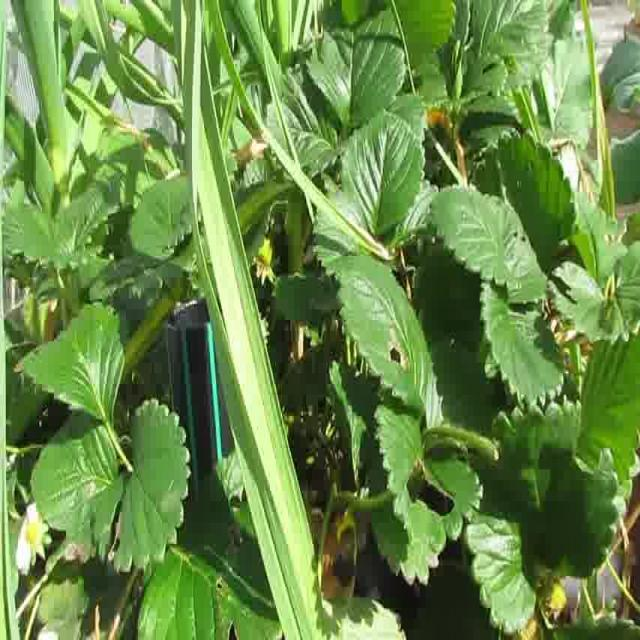Fruta sana: (544, 575, 568, 615), (512, 616, 544, 640), (258, 234, 274, 266), (26, 522, 40, 546)
